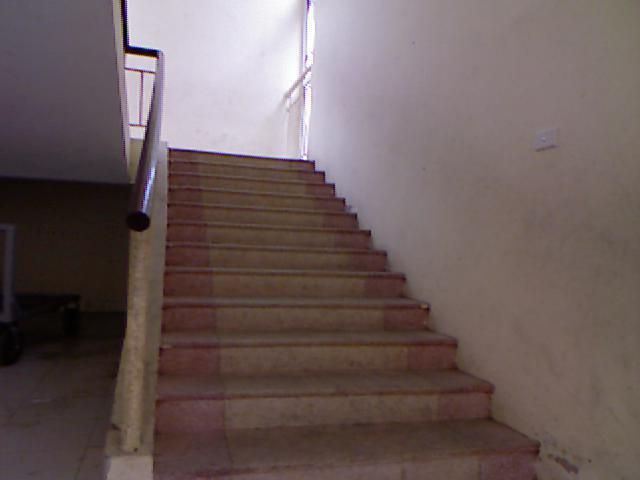Escaleras: (140, 134, 555, 479), (0, 0, 191, 170)
